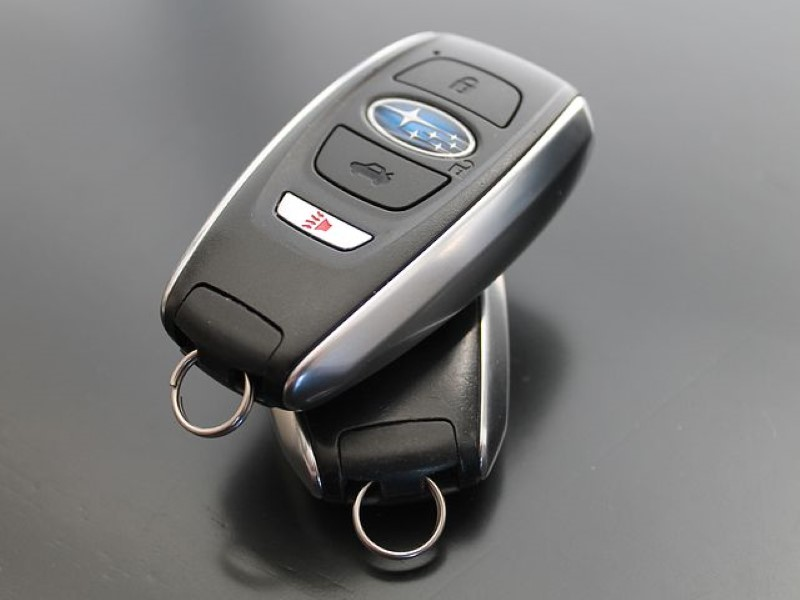carkey: (147, 19, 606, 446)
